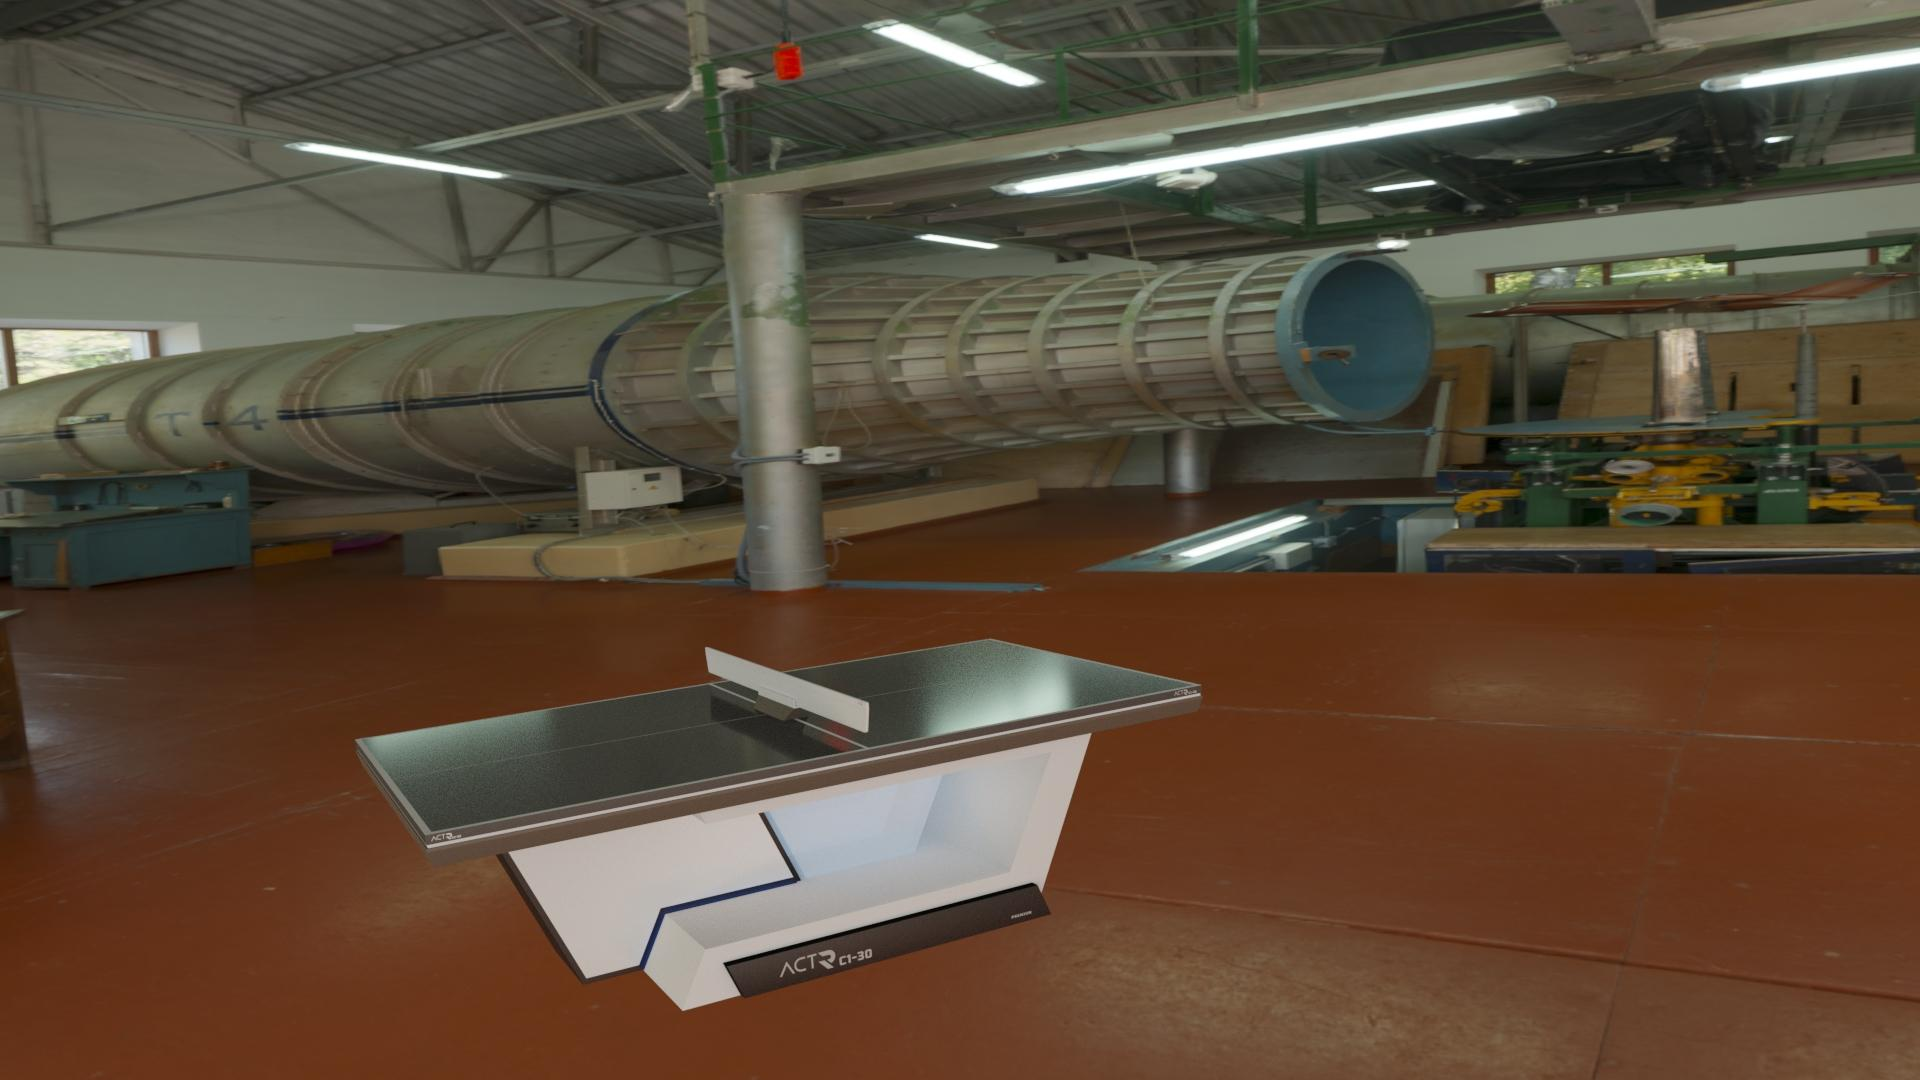table: (361, 640, 1195, 832)
